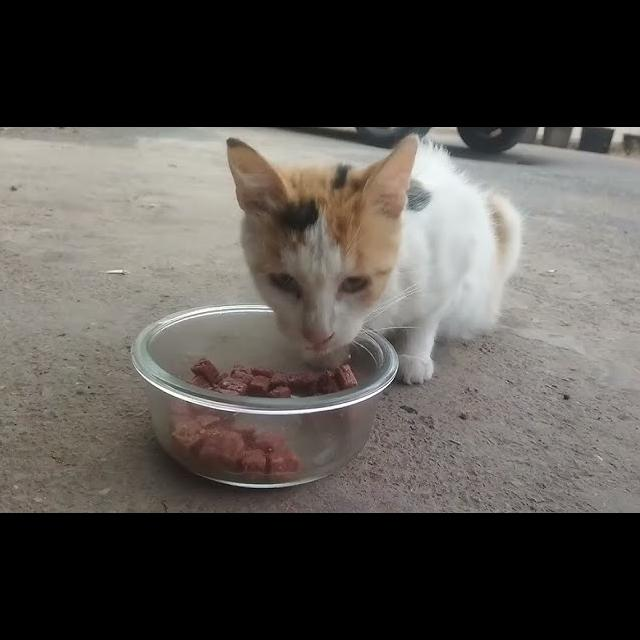animals: (212, 127, 436, 356)
